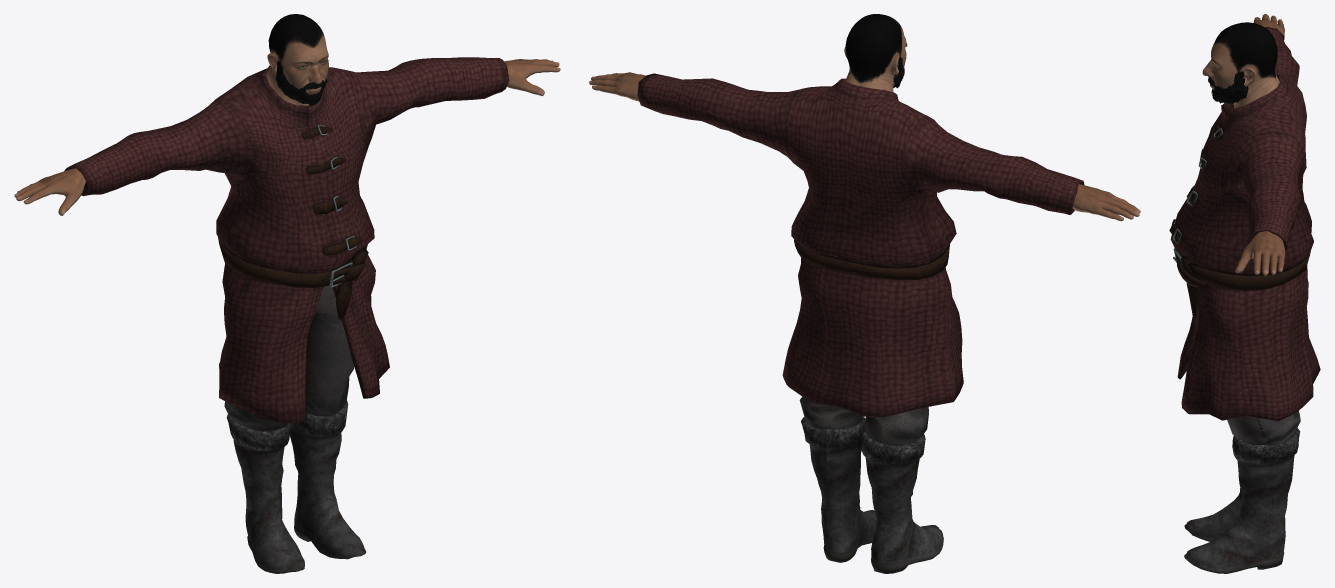
File: Enemy.obj
The picture shows the model from 3 angles, left to right: view 1: azimuth 30°, elevation 25°; view 2: azimuth 150°, elevation 25°; view 3: azimuth 270°, elevation 25°; orthographic projection. The views are drawn at different scales.
Parts seen in each view (by area): view 1: Tops, Shoes, Body, Bottoms, Beards; view 2: Tops, Shoes, Body, Bottoms; view 3: Tops, Shoes, Body, Bottoms, Beards.
Part boxes in pixels (x1,y1,x2,y2): Tops: (64, 57, 509, 423); Shoes: (226, 400, 366, 573); Body: (14, 14, 560, 215); Bottoms: (224, 285, 354, 431); Beards: (275, 60, 327, 105); Tops: (637, 73, 1084, 417); Shoes: (801, 416, 943, 573); Body: (589, 14, 1140, 221); Bottoms: (799, 396, 928, 445); Tops: (1169, 27, 1320, 420); Shoes: (1184, 410, 1300, 573); Body: (1202, 14, 1285, 275); Bottoms: (1198, 265, 1300, 444); Beards: (1211, 70, 1248, 103).
Size of the model in its own units: 192 by 181 by 46.98.
6 materials, 6 textured.
